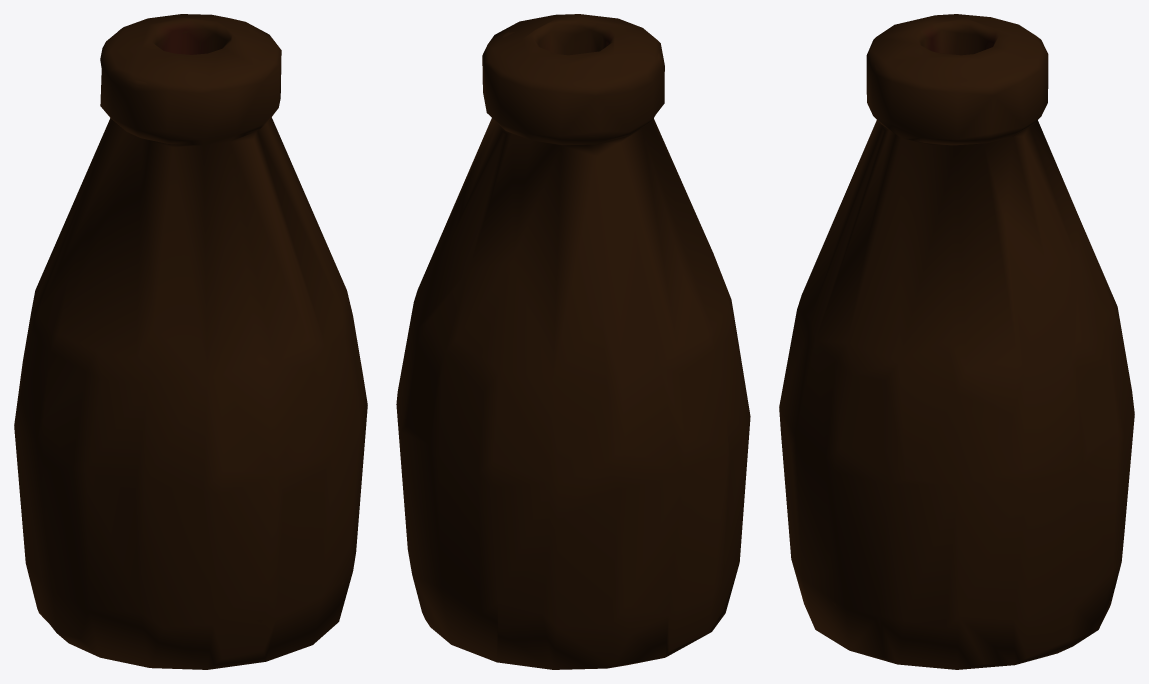
File: gen3d-iron-cannonball-lod1.glb
3 renders of one model, left to right at view 1: azimuth 30°, elevation 25°; view 2: azimuth 150°, elevation 25°; view 3: azimuth 270°, elevation 25°, orthographic.
Parts seen in each view (by area): view 1: part_0; view 2: part_0; view 3: part_0.
Part boxes in pixels (<box>): part_0: <box>14,14,367,669</box>; part_0: <box>396,14,750,669</box>; part_0: <box>779,14,1134,669</box>.
Bounding box in the file's own units: 0.5688 × 1 × 0.5671.
